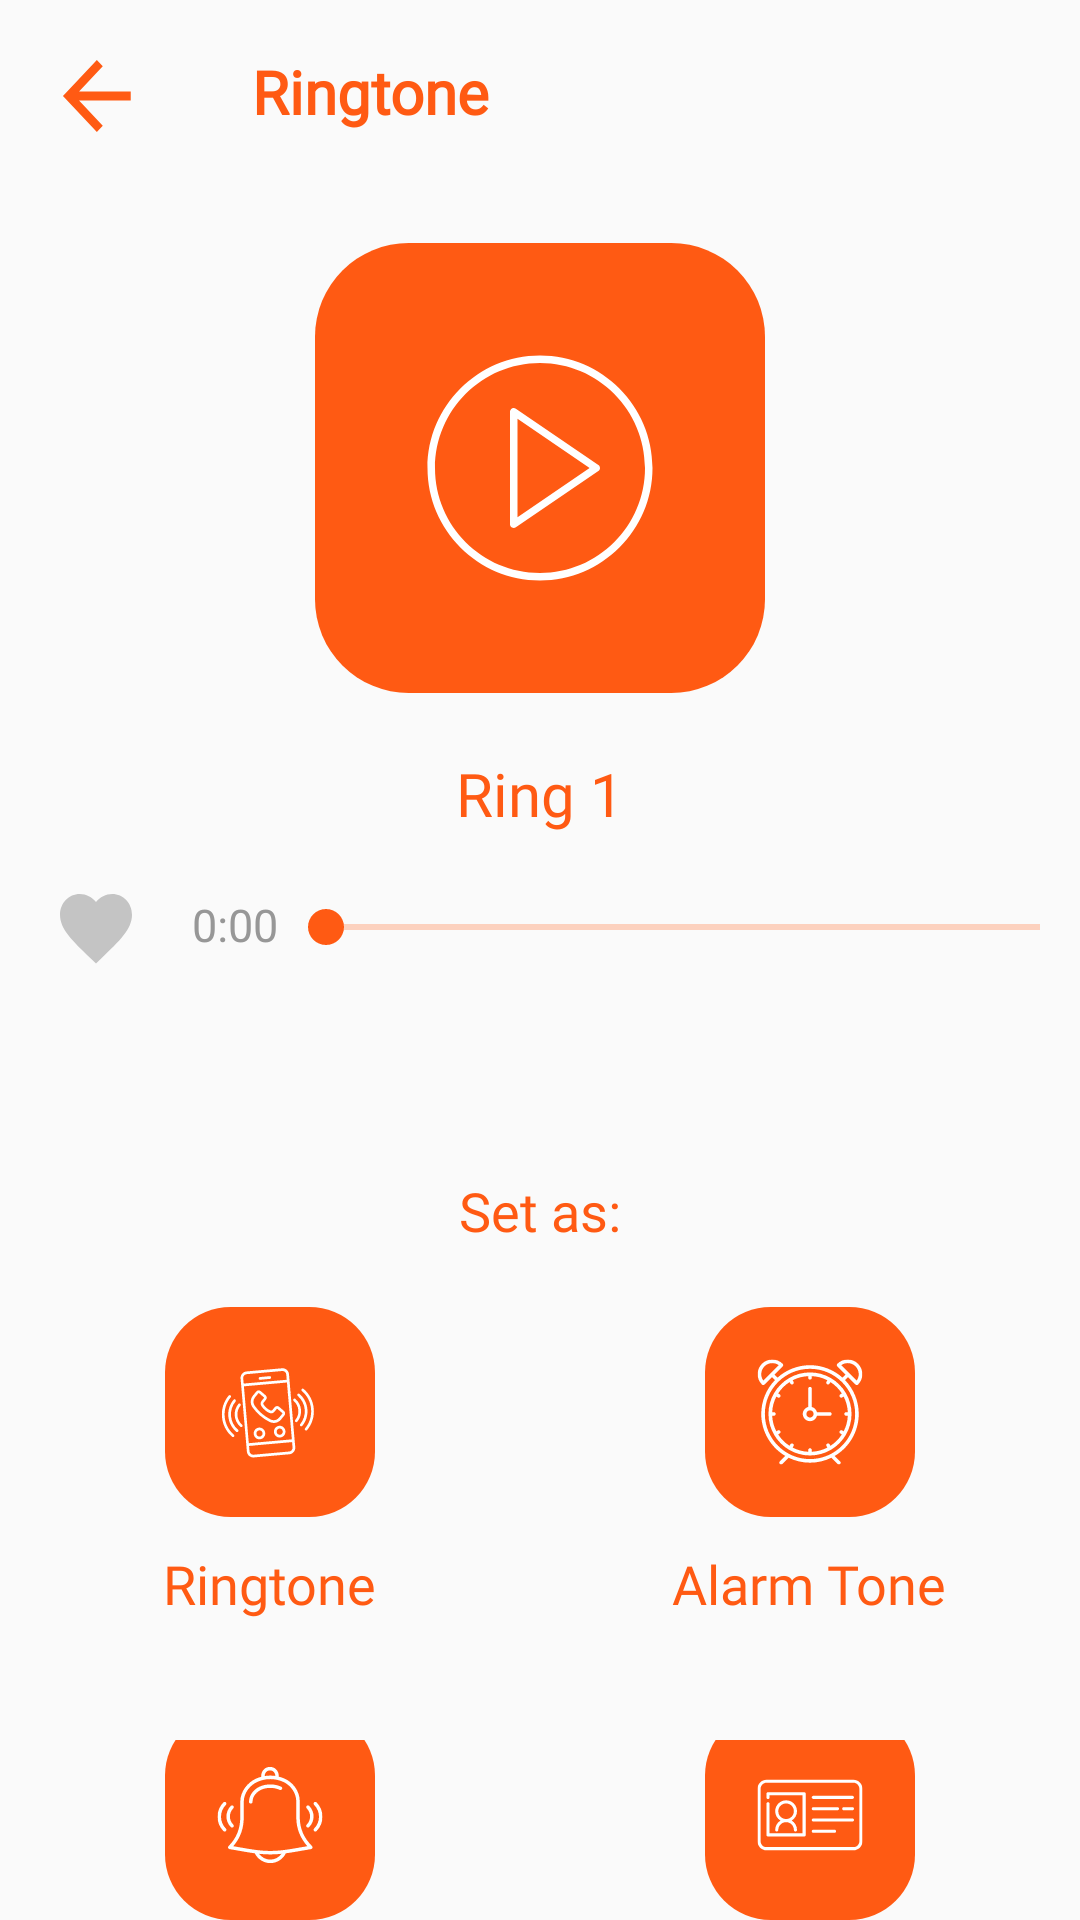

Point at icon controls on the screen. Image size 1080 × 1920, points as (x=x, y=y).
back: (x=97, y=96)
heart: (x=96, y=928)
